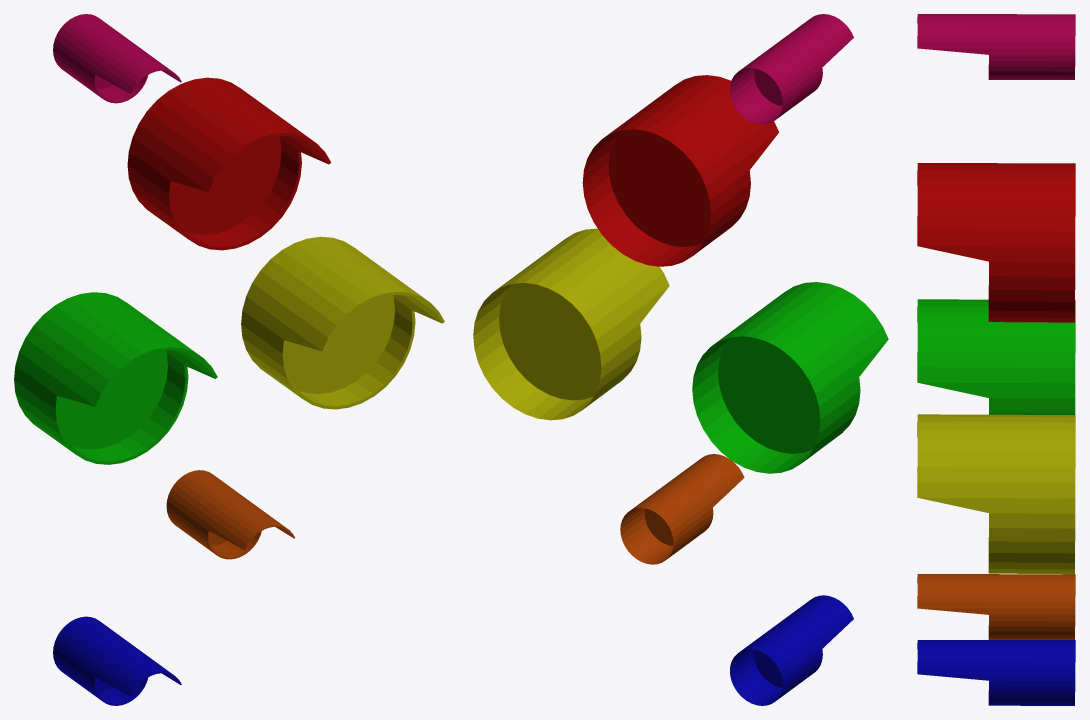
The model's file is advtrains_signals_ks_lamps_main.obj.
3 views of the same model, side by side, from view 1: azimuth 30°, elevation 25°; view 2: azimuth 150°, elevation 25°; view 3: azimuth 270°, elevation 25° (orthographic). The views are drawn at different scales.
Visible parts, largest first — view 1: HSLampen_Cube.000_Yellow, HSLampen_Cube.000_Red, HSLampen_Cube.000_Green, HSLampen_Cube.000_Repeater, HSLampen_Cube.000_Shunt, HSLampen_Cube.000_Distance; view 2: HSLampen_Cube.000_Green, HSLampen_Cube.000_Yellow, HSLampen_Cube.000_Red, HSLampen_Cube.000_Shunt, HSLampen_Cube.000_Repeater, HSLampen_Cube.000_Distance; view 3: HSLampen_Cube.000_Yellow, HSLampen_Cube.000_Red, HSLampen_Cube.000_Green, HSLampen_Cube.000_Shunt, HSLampen_Cube.000_Distance, HSLampen_Cube.000_Repeater.
Part boxes in pixels (left/top/right/bottom): HSLampen_Cube.000_Yellow: left=241, top=236, right=444, bottom=409; HSLampen_Cube.000_Red: left=127, top=77, right=331, bottom=250; HSLampen_Cube.000_Green: left=14, top=292, right=217, bottom=464; HSLampen_Cube.000_Repeater: left=53, top=616, right=181, bottom=705; HSLampen_Cube.000_Shunt: left=166, top=470, right=294, bottom=559; HSLampen_Cube.000_Distance: left=53, top=14, right=181, bottom=103; HSLampen_Cube.000_Green: left=692, top=282, right=888, bottom=473; HSLampen_Cube.000_Yellow: left=473, top=228, right=669, bottom=420; HSLampen_Cube.000_Red: left=582, top=75, right=779, bottom=266; HSLampen_Cube.000_Shunt: left=620, top=454, right=744, bottom=564; HSLampen_Cube.000_Repeater: left=730, top=595, right=853, bottom=705; HSLampen_Cube.000_Distance: left=730, top=14, right=853, bottom=124; HSLampen_Cube.000_Yellow: left=917, top=414, right=1075, bottom=574; HSLampen_Cube.000_Red: left=917, top=163, right=1075, bottom=322; HSLampen_Cube.000_Green: left=917, top=299, right=1075, bottom=414; HSLampen_Cube.000_Shunt: left=917, top=574, right=1075, bottom=639; HSLampen_Cube.000_Distance: left=917, top=14, right=1075, bottom=79; HSLampen_Cube.000_Repeater: left=917, top=640, right=1075, bottom=705.
Bounding box in the file's own units: 3.17 × 5.56 × 1.16.
